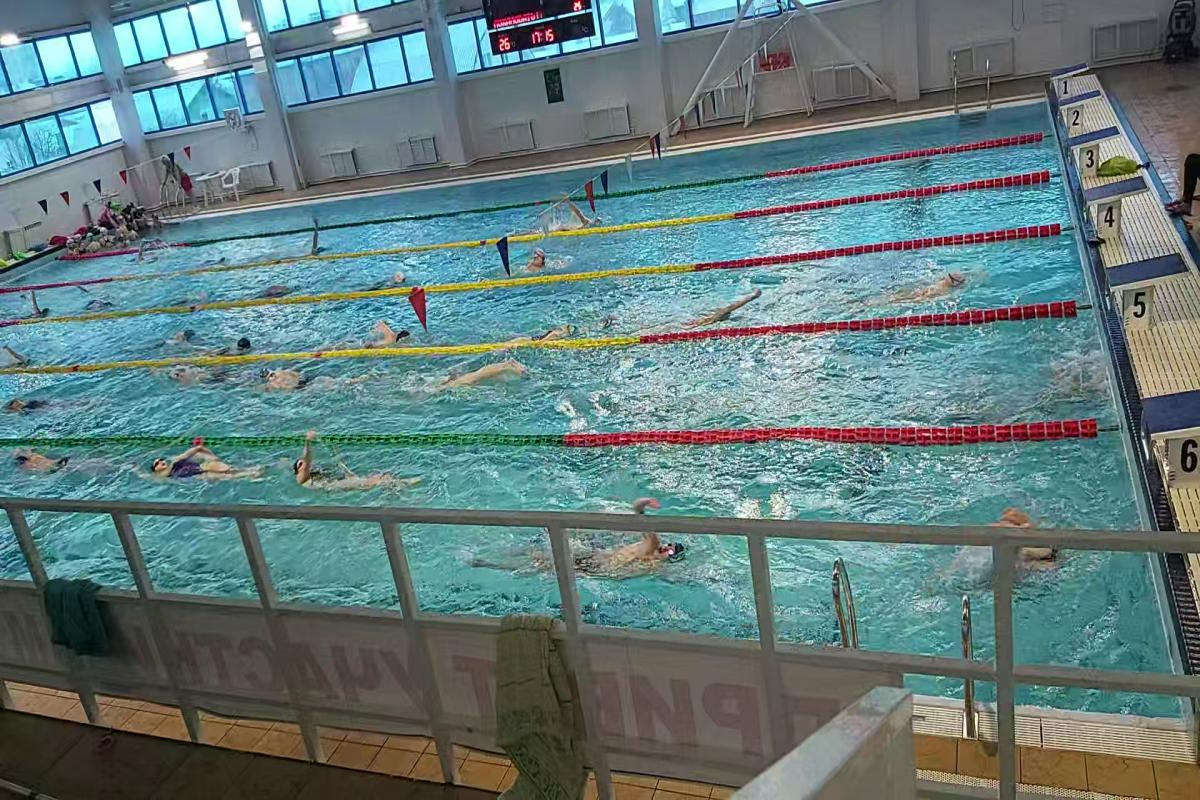swimmer: (512, 500, 696, 576), (953, 505, 1069, 593), (284, 435, 426, 495), (145, 445, 269, 485), (858, 266, 983, 304), (658, 293, 768, 328), (421, 356, 526, 392), (6, 440, 102, 479), (250, 360, 361, 392), (2, 387, 80, 417), (498, 314, 588, 339), (341, 318, 413, 344), (143, 322, 198, 353), (522, 242, 558, 277), (206, 333, 262, 355), (370, 266, 413, 289)
